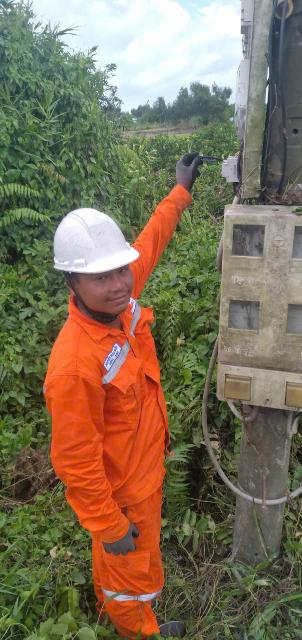gloves: (176, 148, 222, 199), (94, 521, 145, 558)
helmet: (50, 204, 142, 285)
